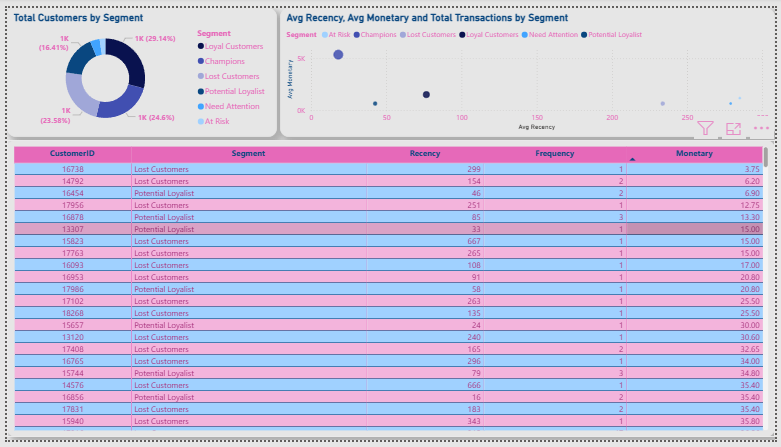

Layout of this report page (visuals, bound fields, positions):
{"tool":"powerbi","page":{"name":"Customer Strategy & Segmentation","canvas":[1280,720],"ordinal":1},"visuals":[{"type":"donutChart","fields":{"Category":["public rfm_analysis_results.Segment"],"Y":["_Measures.Total Customers"]},"box":[0,0,450,215],"z":0},{"type":"scatterChart","fields":{"X":["_Measures.Avg Recency"],"Y":["_Measures.Avg Monetary"],"Size":["_Measures.Total Transactions"],"Series":["public rfm_analysis_results.Segment"]},"box":[455,0,825,215],"z":1000},{"type":"tableEx","fields":{"Values":["public rfm_analysis_results.CustomerID","public rfm_analysis_results.Segment","public rfm_analysis_results.Recency","public rfm_analysis_results.Frequency","public rfm_analysis_results.Monetary"]},"box":[0,220,1280,495],"z":2000}]}

Visuals, with their boxes in screenshot pixels (x1, y1, x2, y2), scaled from the page's 1280x720 canvas onto the 781x447 screenshot:
donutChart - public rfm_analysis_results.Segment x _Measures.Total Customers: x1=0, y1=0, x2=275, y2=133
scatterChart - _Measures.Avg Recency x _Measures.Avg Monetary: x1=278, y1=0, x2=780, y2=133
tableEx - public rfm_analysis_results.CustomerID x public rfm_analysis_results.Segment: x1=0, y1=137, x2=780, y2=444
